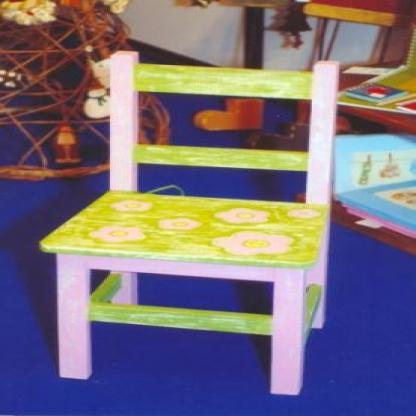chair: (33, 50, 344, 397)
